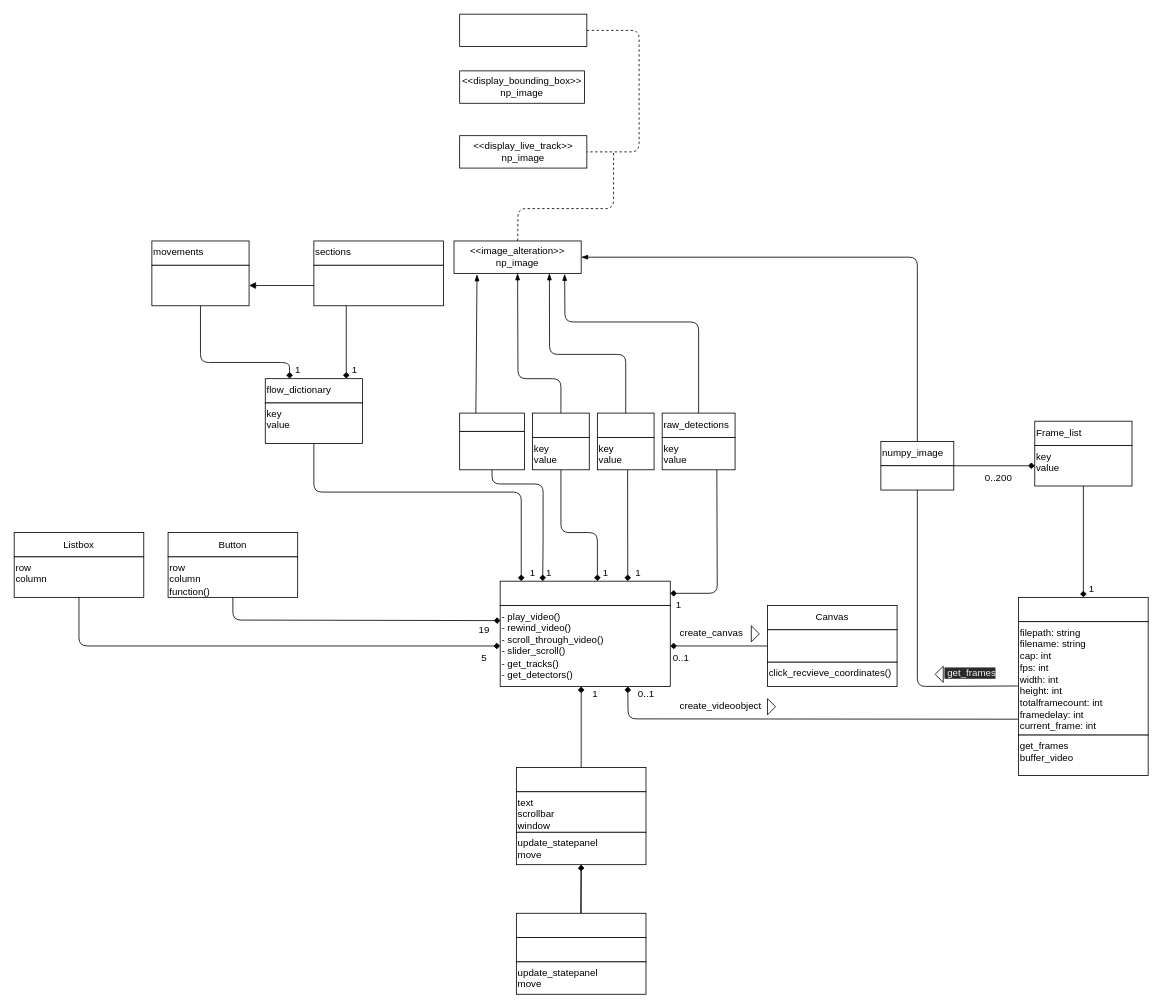
The diagram is 1162 pixels wide and 1008 high, and some of its shapes have lost their labels. Here are the shapes that lost their labels. From the top down, the centre of each, then its label:
At point 523,30: "<<display_tracks>> np_image".
At point 200,285: "key: string value: sections".
At point 378,285: "key: string value: type, coord, color".
At point 491,421: "selectionlist".
At point 560,424: "tracks".
At point 625,424: "tracks_live".
At point 917,477: "shape".
At point 584,592: "UserInterface".
At point 1083,609: "Videoobject".
At point 832,645: "points polygon_points".
At point 581,779: "Statepanel".
At point 581,925: "Scrollbar".
At point 581,949: "window".
